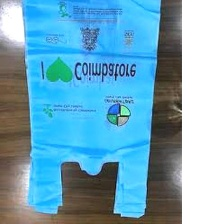plastic_bag: (12, 0, 160, 220)
